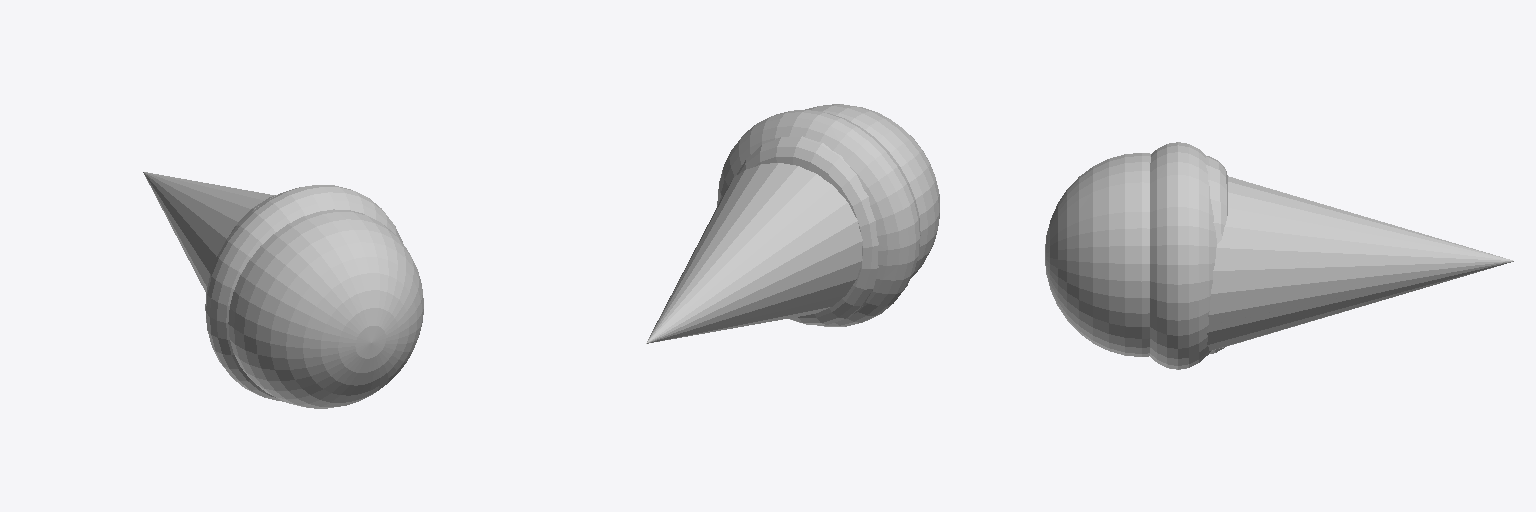
Rendered from tinker2.obj.
3 renders of one model, left to right at view 1: azimuth 30°, elevation 25°; view 2: azimuth 150°, elevation 25°; view 3: azimuth 270°, elevation 25°, orthographic.
Visible parts, largest first — view 1: obj_0; view 2: obj_0; view 3: obj_0.
Boxes of the visible parts, <box> form: obj_0: <box>143,172,423,408</box>; obj_0: <box>646,104,939,343</box>; obj_0: <box>1045,142,1513,369</box>.
Bounding box in the file's own units: 18.59 × 19 × 39.